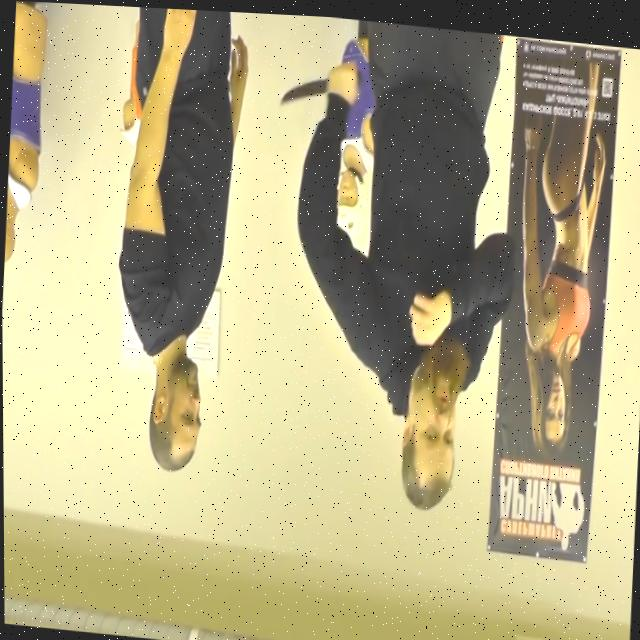knife: (279, 70, 328, 106)
